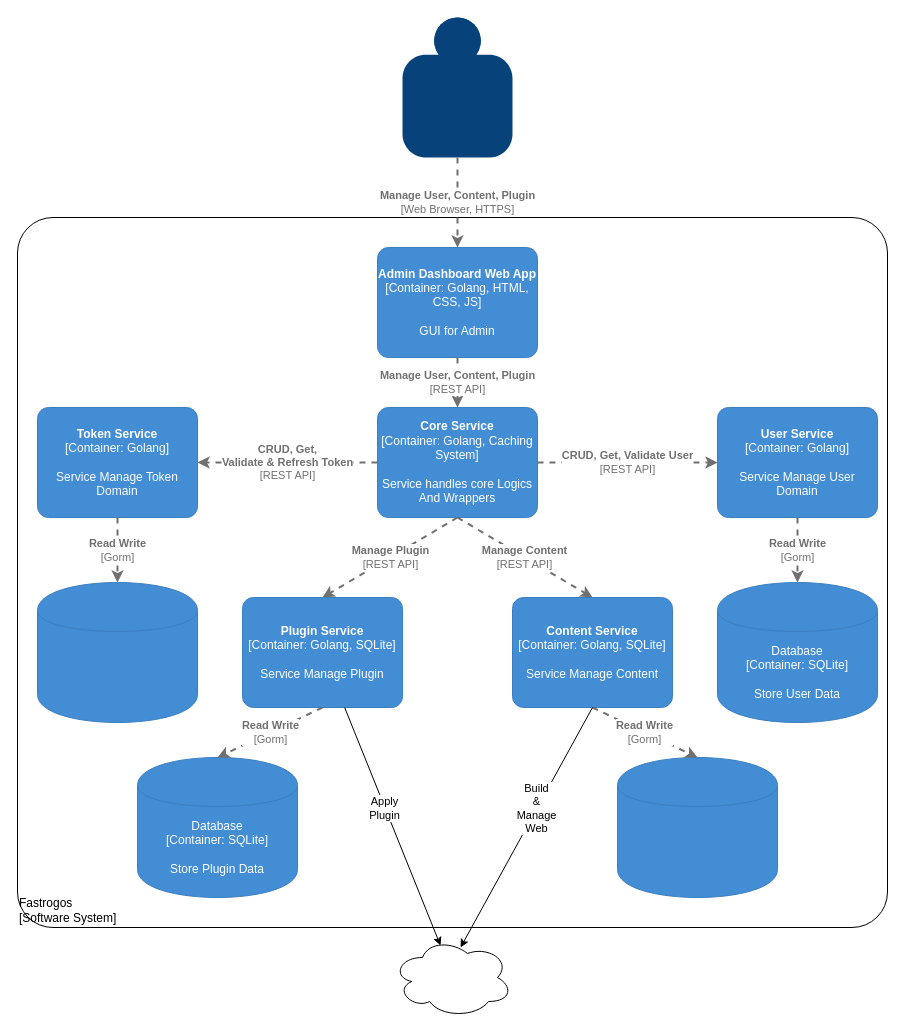
Some shapes in this 905 by 1035 pixel diagram are drawn without their labels. Each missing label, with the centre of its shape:
"Database [Container: SQLite] Store Content Data" belongs at point (697, 827).
"Database [Container: SQLite] Store Token Data" belongs at point (117, 652).
"Super Admin [Person] Admin" belongs at point (457, 87).
"Website/Blog" belongs at point (452, 977).
